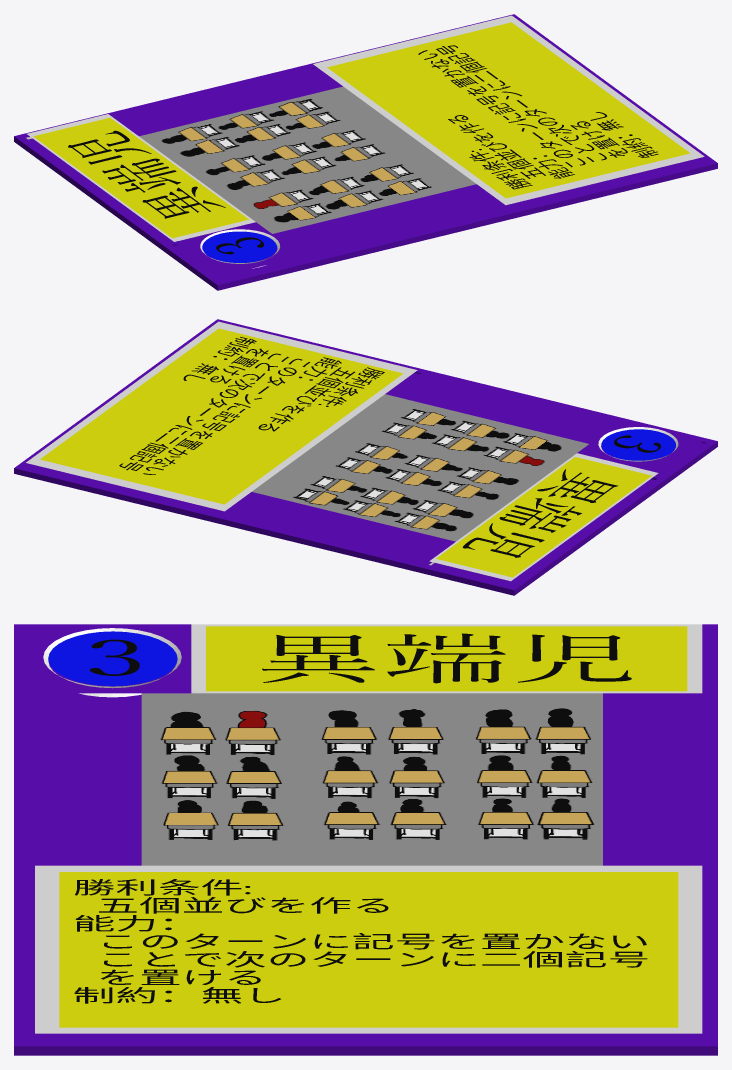
The model's file is 異端児紫.fbx.
3 views of the same model, one above another, from view 1: azimuth 30°, elevation 25°; view 2: azimuth 150°, elevation 25°; view 3: azimuth 270°, elevation 25° (orthographic). The views are drawn at different scales.
Parts seen in each view (by area): view 1: 説明欄, 平面.001, カード本体.001, 名前欄, 説明文, 名前, 円, 平面; view 2: 説明欄, 平面.001, カード本体.001, 名前欄, 説明文, 名前, 円, 平面; view 3: 説明欄, 平面.001, カード本体.001, 名前欄, 説明文, 名前, 円, 平面, コスト蘭.
Boxes of the visible parts, <box> form: 説明欄: <box>313,15,704,205</box>; 平面.001: <box>139,86,476,233</box>; カード本体.001: <box>14,14,717,290</box>; 名前欄: <box>27,114,255,241</box>; 説明文: <box>418,45,658,189</box>; 名前: <box>68,130,225,218</box>; 円: <box>202,231,276,262</box>; 平面: <box>174,222,302,275</box>; 説明欄: <box>26,321,417,511</box>; 平面.001: <box>252,394,588,541</box>; カード本体.001: <box>14,319,717,595</box>; 名前欄: <box>429,453,658,581</box>; 説明文: <box>119,337,384,474</box>; 名前: <box>462,469,618,557</box>; 円: <box>601,429,675,460</box>; 平面: <box>577,419,704,472</box>; 説明欄: <box>35,865,702,1033</box>; 平面.001: <box>141,693,602,865</box>; カード本体.001: <box>14,624,717,1055</box>; 名前欄: <box>191,624,702,693</box>; 説明文: <box>74,879,647,1003</box>; 名前: <box>262,633,631,683</box>; 円: <box>48,631,177,686</box>; 平面: <box>30,624,191,693</box>; コスト蘭: <box>43,628,181,697</box>.
Size of the model in its own units: 281 by 6.07 by 198.
